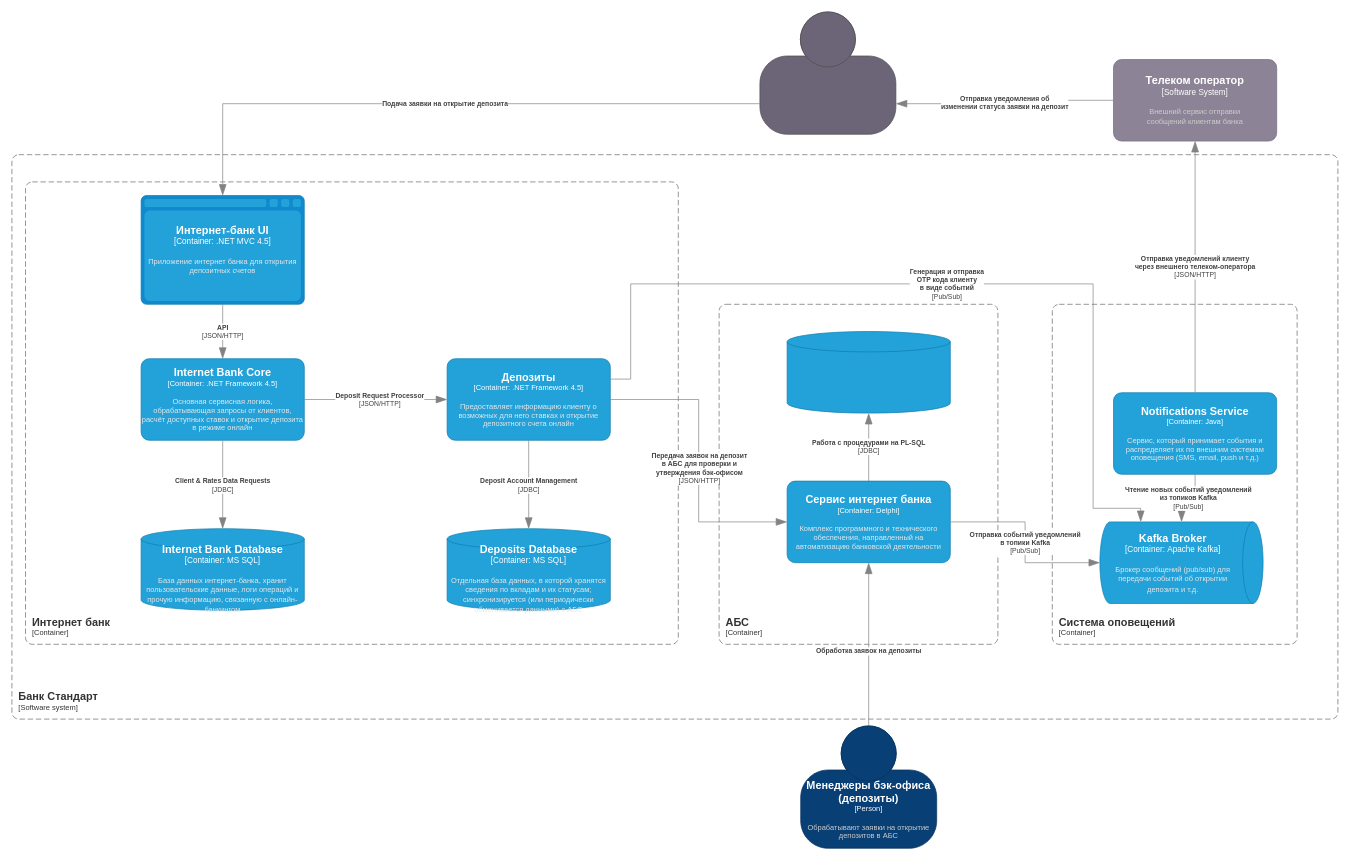
Some shapes in this 1350 by 860 pixel diagram are drawn without their labels. Here are the shapes that lost their labels. From the top down, the centre of each, then its label:
(x=827, y=72): Клиент банка [Person]
(x=868, y=372): АБС БД [Container: Oracle] База данных АБС
